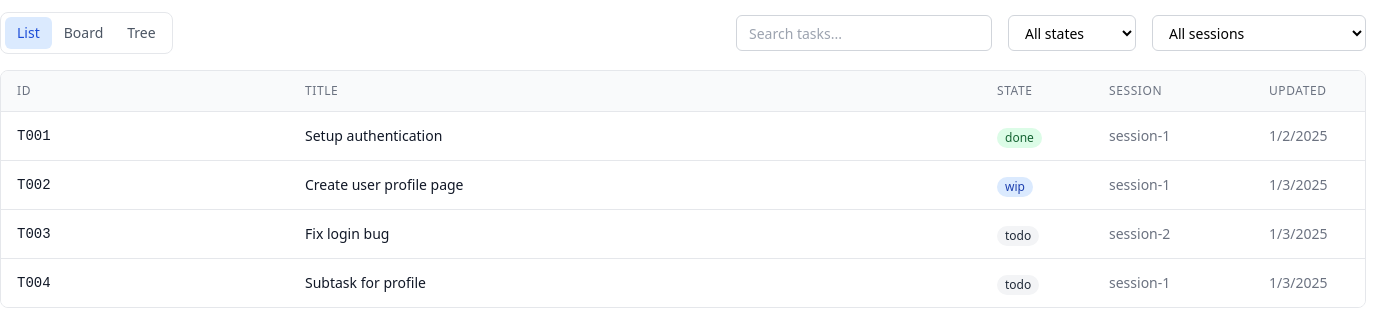
TasksView › Filters › filters tasks by state
Select "Wip" in the dropdown named "state" at [1072, 33], box [1008,15,1136,51]
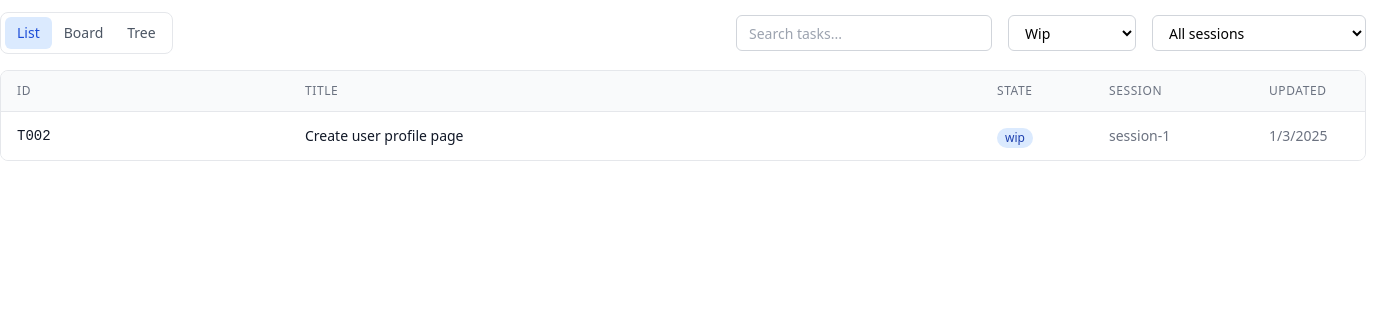
Check: the text "T002" is shown, box [17,128,51,144]
Check: the text "T001" is gone
